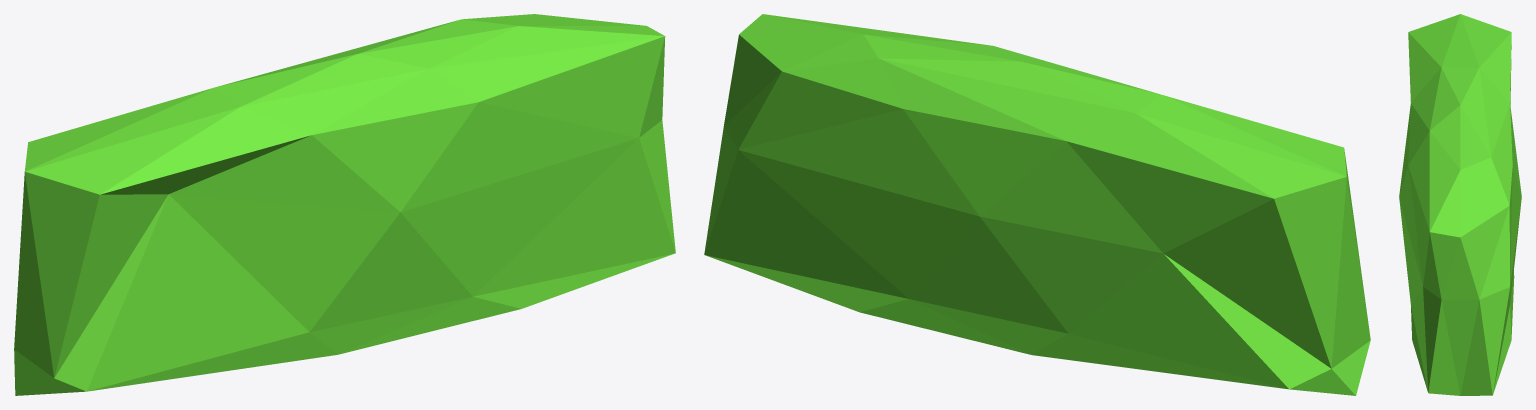
The model's file is HedgeTall.fbx.
The picture shows the model from 3 angles, left to right: view 1: azimuth 30°, elevation 25°; view 2: azimuth 150°, elevation 25°; view 3: azimuth 270°, elevation 25°; orthographic projection. The views are drawn at different scales.
Visible parts, largest first — view 1: Icosphere; view 2: Icosphere; view 3: Icosphere.
Boxes of the visible parts, x1,y1,x2,y2 form: Icosphere: [14, 14, 675, 395]; Icosphere: [704, 14, 1370, 395]; Icosphere: [1399, 14, 1521, 395].
Size of the model in its own units: 876 by 356 by 200.
